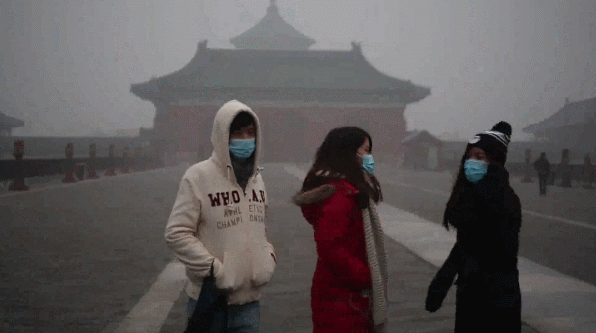person: (164, 99, 277, 333), (424, 120, 521, 333), (291, 126, 390, 333), (533, 151, 551, 197)
